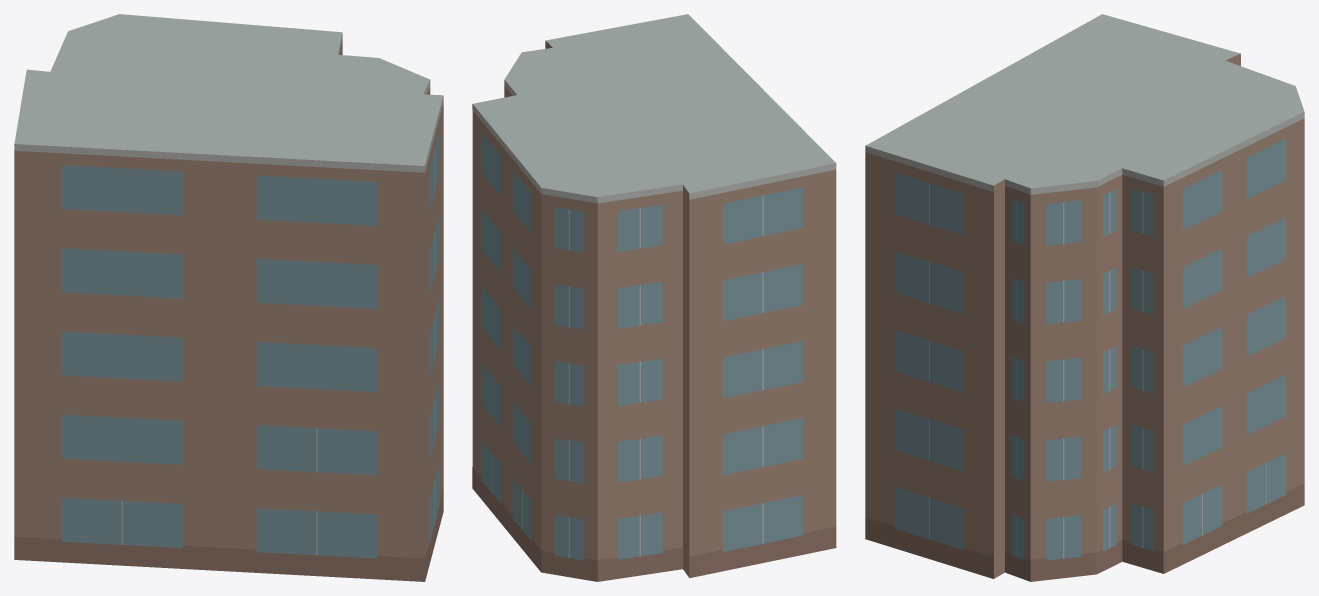
Rendered from survey-upis-32583648.glb.
3 views of the same model, side by side, from view 1: azimuth 30°, elevation 25°; view 2: azimuth 150°, elevation 25°; view 3: azimuth 270°, elevation 25° (orthographic). The views are drawn at different scales.
Parts seen in each view (by area): view 1: survey-upis-32583648.tmp; view 2: survey-upis-32583648.tmp; view 3: survey-upis-32583648.tmp.
Part boxes in pixels (x1,y1,x2,y2): survey-upis-32583648.tmp: [14, 14, 443, 581]; survey-upis-32583648.tmp: [472, 14, 836, 581]; survey-upis-32583648.tmp: [865, 14, 1304, 581].
Bounding box in the file's own units: 14.38 × 15.1 × 15.3.
